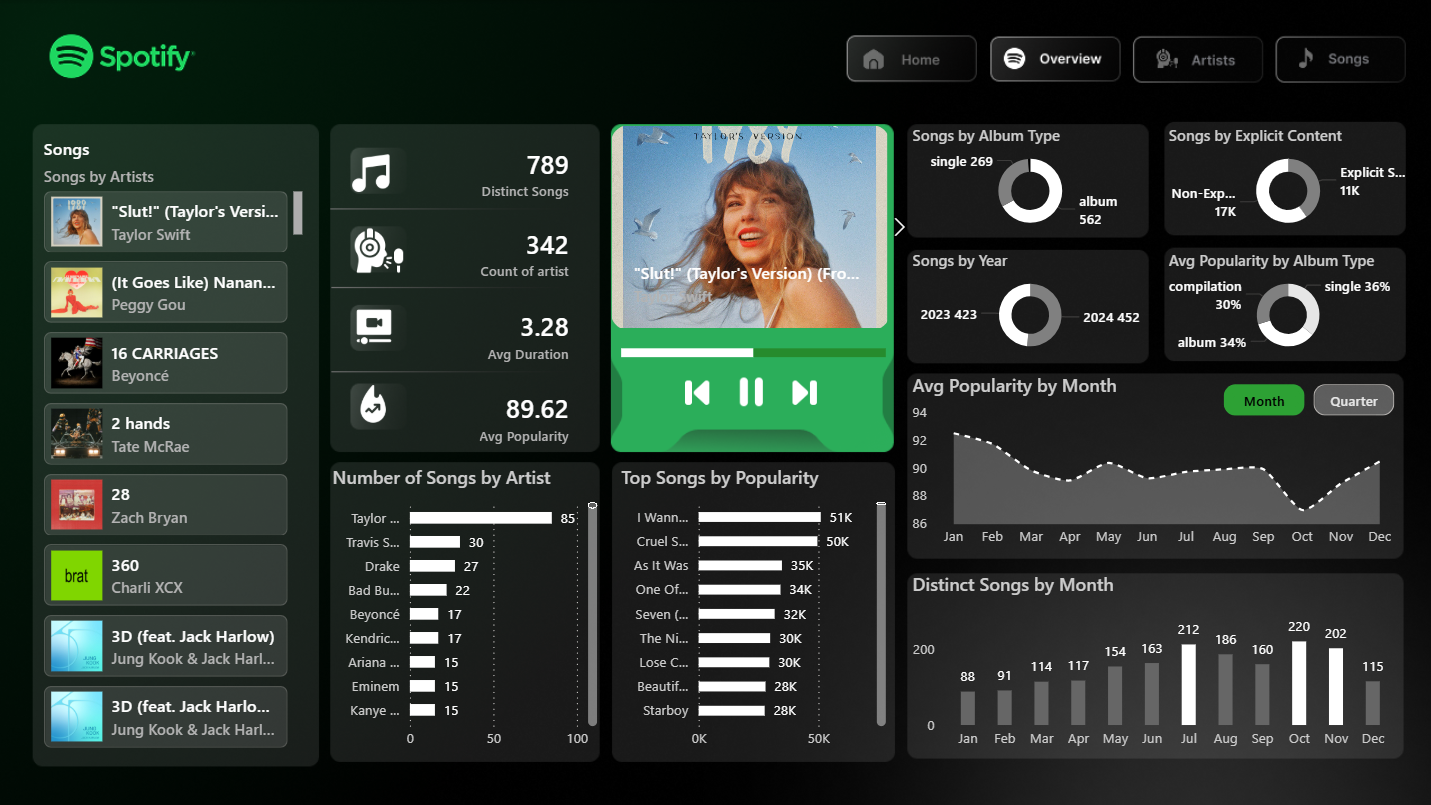

What the dashboard file says about the page in this screenshot:
{"tool":"powerbi","page":{"name":"Overview  Final","canvas":[1280,720],"ordinal":1},"visuals":[{"type":"clusteredBarChart","title":"Number of Songs by Artist","fields":{"Y":["_Measures.Distinct Songs"],"Category":["Top-50-World.artist"]},"box":[294.3,412.9,245.7,262.9],"z":0},{"type":"clusteredBarChart","title":"Top Songs by Popularity","fields":{"Category":["Top-50-World.song"],"Y":["Sum(Top-50-World.popularity)"]},"box":[551.4,412.9,245.7,262.9],"z":1000},{"type":"areaChart","fields":{"Category":["Top-50-World.Month"],"Y":["_Measures.Avg Popularity"]},"box":[810,331.4,440,164.3],"z":2000},{"type":"advancedSlicerVisual","fields":{"Values":["Slicer_option.Slicer_option"]},"box":[1087.6,337.3,162.5,39],"z":3000},{"type":"donutChart","title":"Songs by Album Type","fields":{"Category":["Top-50-World.album_type"],"Y":["_Measures.Distinct Songs"]},"box":[810,111.4,220,100],"z":4000},{"type":"donutChart","title":"Songs by Explicit Content","fields":{"Y":["_Measures.Explicit Songs","_Measures.Non-Explicit Songs"]},"box":[1038.6,111.4,222.9,100],"z":5000},{"type":"donutChart","title":"Songs by Year","fields":{"Y":["_Measures.Distinct Songs"],"Category":["Top-50-World.Year"]},"box":[810,222.9,220,98.6],"z":6000},{"type":"donutChart","title":"Avg Popularity by Album Type","fields":{"Category":["Top-50-World.album_type"],"Y":["_Measures.Avg Popularity"]},"box":[1038.6,222.9,222.9,98.6],"z":7000},{"type":"clusteredColumnChart","fields":{"Category":["Top-50-World.Month"],"Y":["_Measures.Distinct Songs"]},"box":[810,508.6,440,167.1],"z":8000},{"type":"cardVisual","fields":{"Data":["_Measures.Distinct Songs"]},"box":[396.7,111.1,142.2,85.6],"z":9000},{"type":"cardVisual","fields":{"Data":["_Measures.Avg Duration Minutes"]},"box":[396.7,254.4,142.2,87.8],"z":10000},{"type":"cardVisual","fields":{"Data":["Count(Top-50-World.artist)"]},"box":[396.7,185.9,142.2,78.9],"z":11000},{"type":"cardVisual","fields":{"Data":["_Measures.Avg Popularity"]},"box":[396.7,331.1,142.2,82.2],"z":12000},{"type":"image","box":[306.7,343.3,67.8,33.3],"z":13000},{"type":"image","box":[316.7,201.1,47.8,43.3],"z":14000},{"type":"image","box":[316.7,135.6,33.3,36.7],"z":15000},{"type":"image","box":[306.7,272.2,58.9,36.7],"z":16000},{"type":"advancedSlicerVisual","title":"Songs ","fields":{"Values":["Top-50-World.song"]},"box":[37.1,122.9,240,552.9],"z":17000},{"type":"advancedSlicerVisual","title":"Songs ","fields":{"Values":["Top-50-World.song"]},"box":[521.4,105.7,298.6,192.9],"z":18000},{"type":"hundredPercentStackedBarChart","fields":{"Y":["_Measures.Avg Popularity","Avg(Top-50-World.popularity)"]},"box":[551.4,272.9,245.7,77.1],"z":19000},{"type":"image","box":[707.1,337.1,25,25],"z":20000},{"type":"image","box":[611.4,337.1,25,25],"z":21000},{"type":"image","box":[658.9,336.4,25.7,25.7],"z":22000},{"type":"shape","box":[540,107.1,257.1,294.3],"z":23000},{"type":"actionButton","box":[760.3,32.6,118.6,40],"z":24000},{"type":"actionButton","box":[1017.1,32.9,110,40],"z":25000},{"type":"actionButton","box":[1138.9,32.6,118.6,40],"z":26000},{"type":"actionButton","box":[888.6,32.9,112.9,40],"z":27000}]}

Visuals, with their boxes in screenshot pixels (x1, y1, x2, y2), scaled from the page's 1280x720 canvas onto the 1431x805 screenshot:
"Number of Songs by Artist" clusteredBarChart: x1=329 y1=462 x2=604 y2=756
"Top Songs by Popularity" clusteredBarChart: x1=616 y1=462 x2=891 y2=756
areaChart - Top-50-World.Month x _Measures.Avg Popularity: x1=906 y1=371 x2=1397 y2=554
advancedSlicerVisual - Slicer_option.Slicer_option: x1=1216 y1=377 x2=1398 y2=421
"Songs by Album Type" donutChart: x1=906 y1=125 x2=1152 y2=236
"Songs by Explicit Content" donutChart: x1=1161 y1=125 x2=1410 y2=236
"Songs by Year" donutChart: x1=906 y1=249 x2=1152 y2=359
"Avg Popularity by Album Type" donutChart: x1=1161 y1=249 x2=1410 y2=359
clusteredColumnChart - Top-50-World.Month x _Measures.Distinct Songs: x1=906 y1=569 x2=1397 y2=755
cardVisual - _Measures.Distinct Songs: x1=443 y1=124 x2=602 y2=220
cardVisual - _Measures.Avg Duration Minutes: x1=443 y1=284 x2=602 y2=383
cardVisual - Count(Top-50-World.artist): x1=443 y1=208 x2=602 y2=296
cardVisual - _Measures.Avg Popularity: x1=443 y1=370 x2=602 y2=462
image: x1=343 y1=384 x2=419 y2=421
image: x1=354 y1=225 x2=407 y2=273
image: x1=354 y1=152 x2=391 y2=193
image: x1=343 y1=304 x2=409 y2=345
"Songs " advancedSlicerVisual: x1=41 y1=137 x2=310 y2=756
"Songs " advancedSlicerVisual: x1=583 y1=118 x2=917 y2=334
hundredPercentStackedBarChart - _Measures.Avg Popularity x Avg(Top-50-World.popularity): x1=616 y1=305 x2=891 y2=391
image: x1=791 y1=377 x2=818 y2=405
image: x1=684 y1=377 x2=711 y2=405
image: x1=737 y1=376 x2=765 y2=405
shape: x1=604 y1=120 x2=891 y2=449
actionButton: x1=850 y1=36 x2=983 y2=81
actionButton: x1=1137 y1=37 x2=1260 y2=82
actionButton: x1=1273 y1=36 x2=1406 y2=81
actionButton: x1=993 y1=37 x2=1120 y2=82
